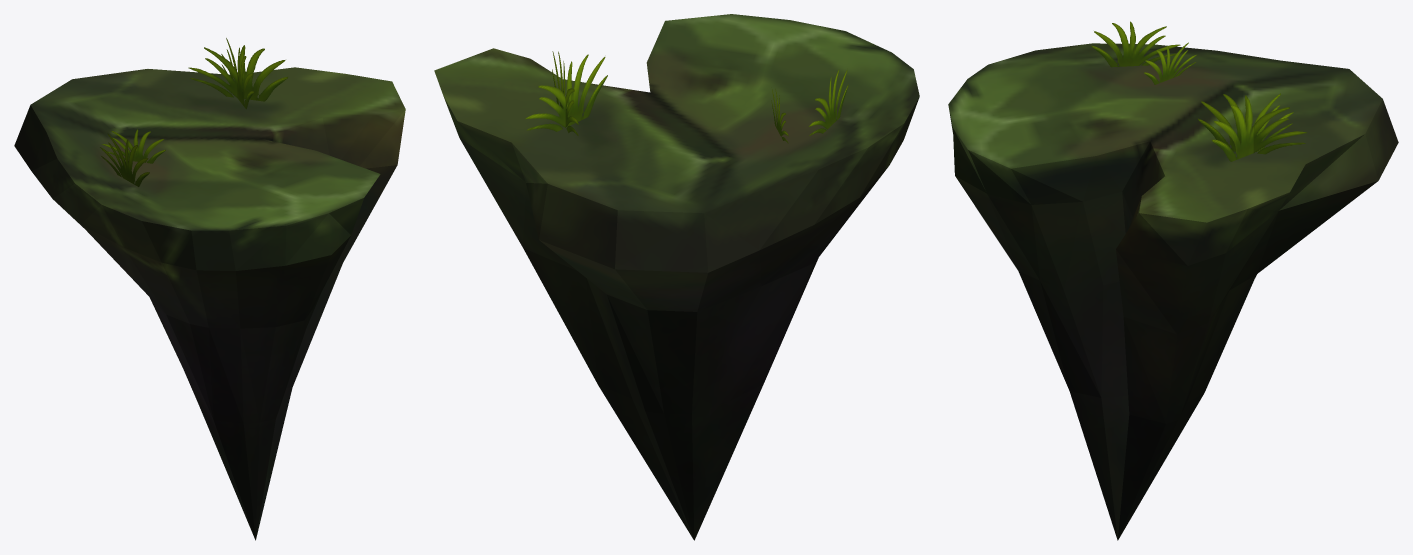
The model's file is Swamp_fushi01.FBX.
The picture shows the model from 3 angles, left to right: view 1: azimuth 30°, elevation 25°; view 2: azimuth 150°, elevation 25°; view 3: azimuth 270°, elevation 25°; orthographic projection. The views are drawn at different scales.
Parts seen in each view (by area): view 1: fushi01; view 2: fushi01; view 3: fushi01.
Part boxes in pixels (left/top/right/bottom): fushi01: left=14, top=38, right=405, bottom=540; fushi01: left=434, top=14, right=919, bottom=540; fushi01: left=948, top=21, right=1398, bottom=540.
Size of the model in its own units: 117 by 145 by 124.
